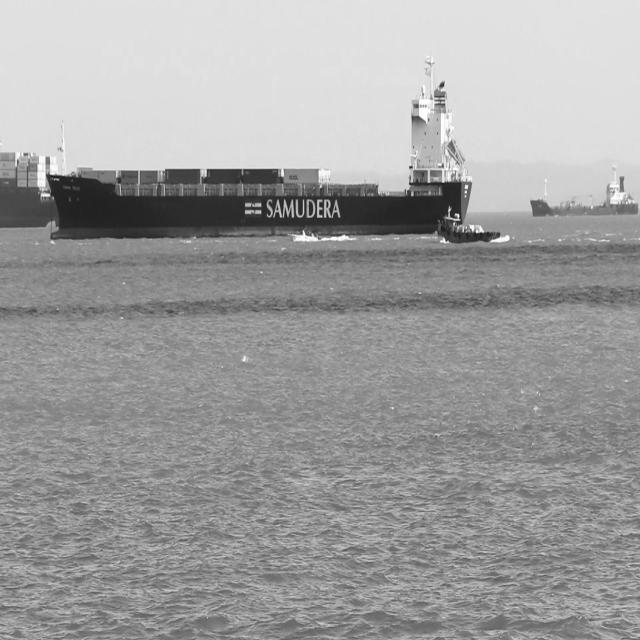ship: (45, 51, 473, 240), (530, 166, 640, 219), (0, 150, 59, 230), (437, 204, 502, 242), (288, 226, 322, 242)
